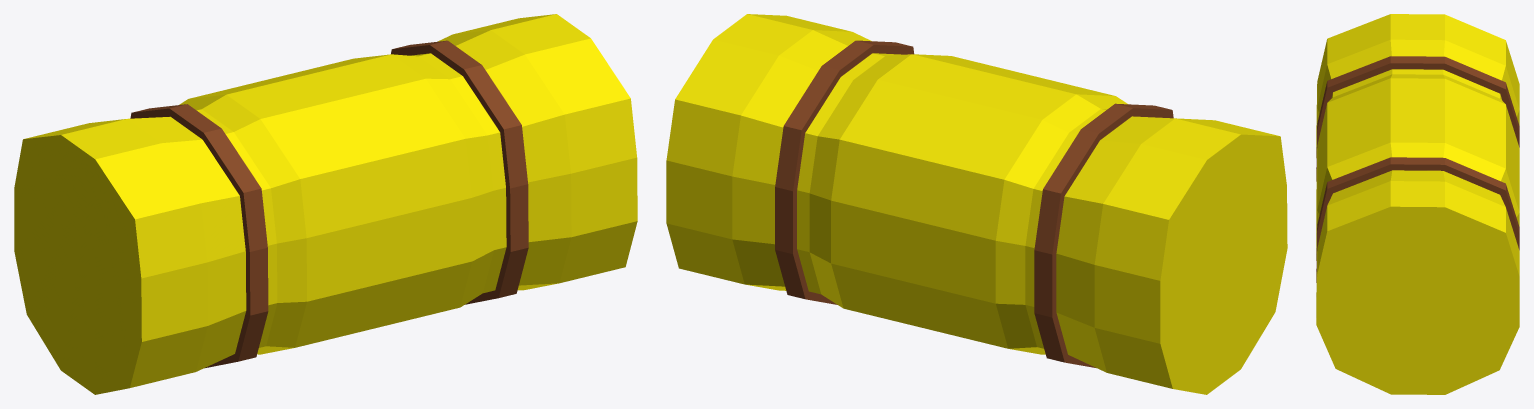
File: PajaAtada.fbx
The picture shows the model from 3 angles, left to right: view 1: azimuth 30°, elevation 25°; view 2: azimuth 150°, elevation 25°; view 3: azimuth 270°, elevation 25°; orthographic projection. The views are drawn at different scales.
Visible parts, largest first — view 1: Cylinder.001, Cylinder.002, Cylinder; view 2: Cylinder.001, Cylinder, Cylinder.002; view 3: Cylinder.001, Cylinder.002, Cylinder.
Part boxes in pixels (x1,y1,x2,y2): Cylinder.001: (14,14,637,394); Cylinder.002: (391,40,528,304); Cylinder: (130,104,268,368); Cylinder.001: (666,14,1287,394); Cylinder: (1034,103,1173,367); Cylinder.002: (775,40,914,304); Cylinder.001: (1316,14,1519,394); Cylinder.002: (1316,157,1519,282); Cylinder: (1316,56,1519,181).
Size of the model in its own units: 129 by 58.54 by 57.28.
